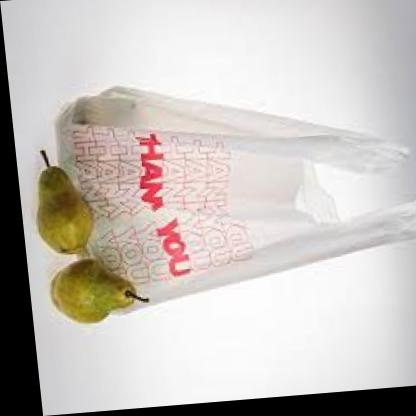Plastic: (41, 71, 416, 344)
